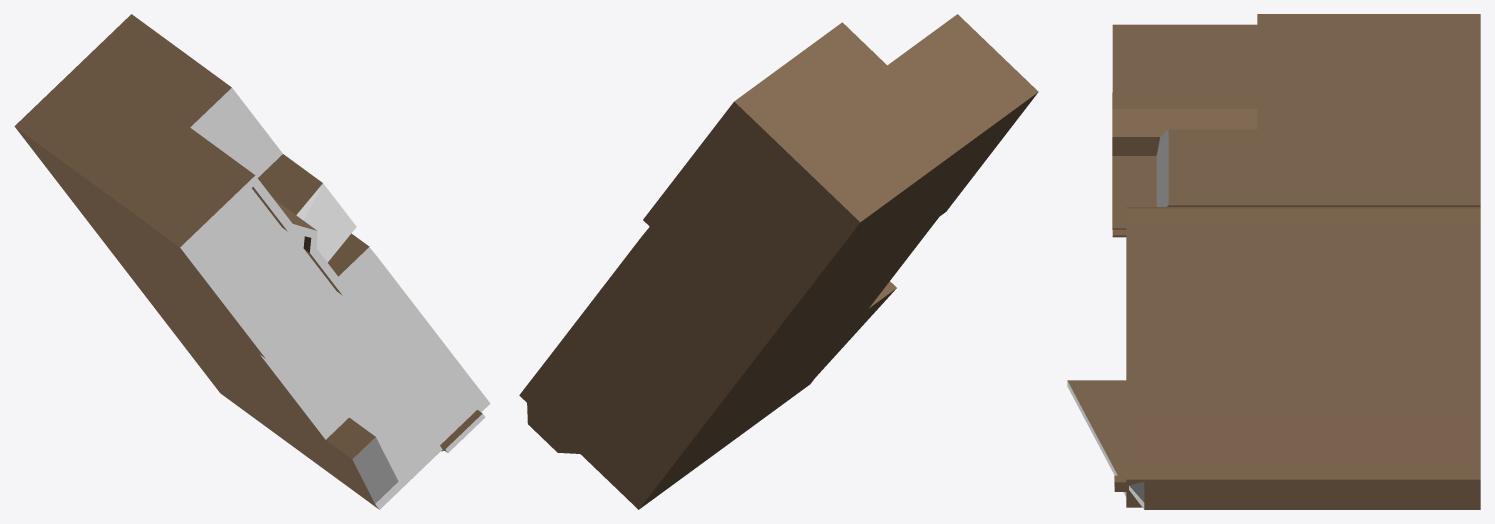
The picture shows the model from 3 angles, left to right: view 1: azimuth 30°, elevation 25°; view 2: azimuth 150°, elevation 25°; view 3: azimuth 270°, elevation 25°; orthographic projection. The views are drawn at different scales.
Visible parts, largest first — view 1: City_PC-08631; view 2: City_PC-08631; view 3: City_PC-08631.
Part boxes in pixels (x1,y1,x2,y2): City_PC-08631: (14, 14, 490, 509); City_PC-08631: (519, 14, 1038, 509); City_PC-08631: (1067, 14, 1480, 509).
Bounding box in the file's own units: 1820 × 2201 × 1851.
